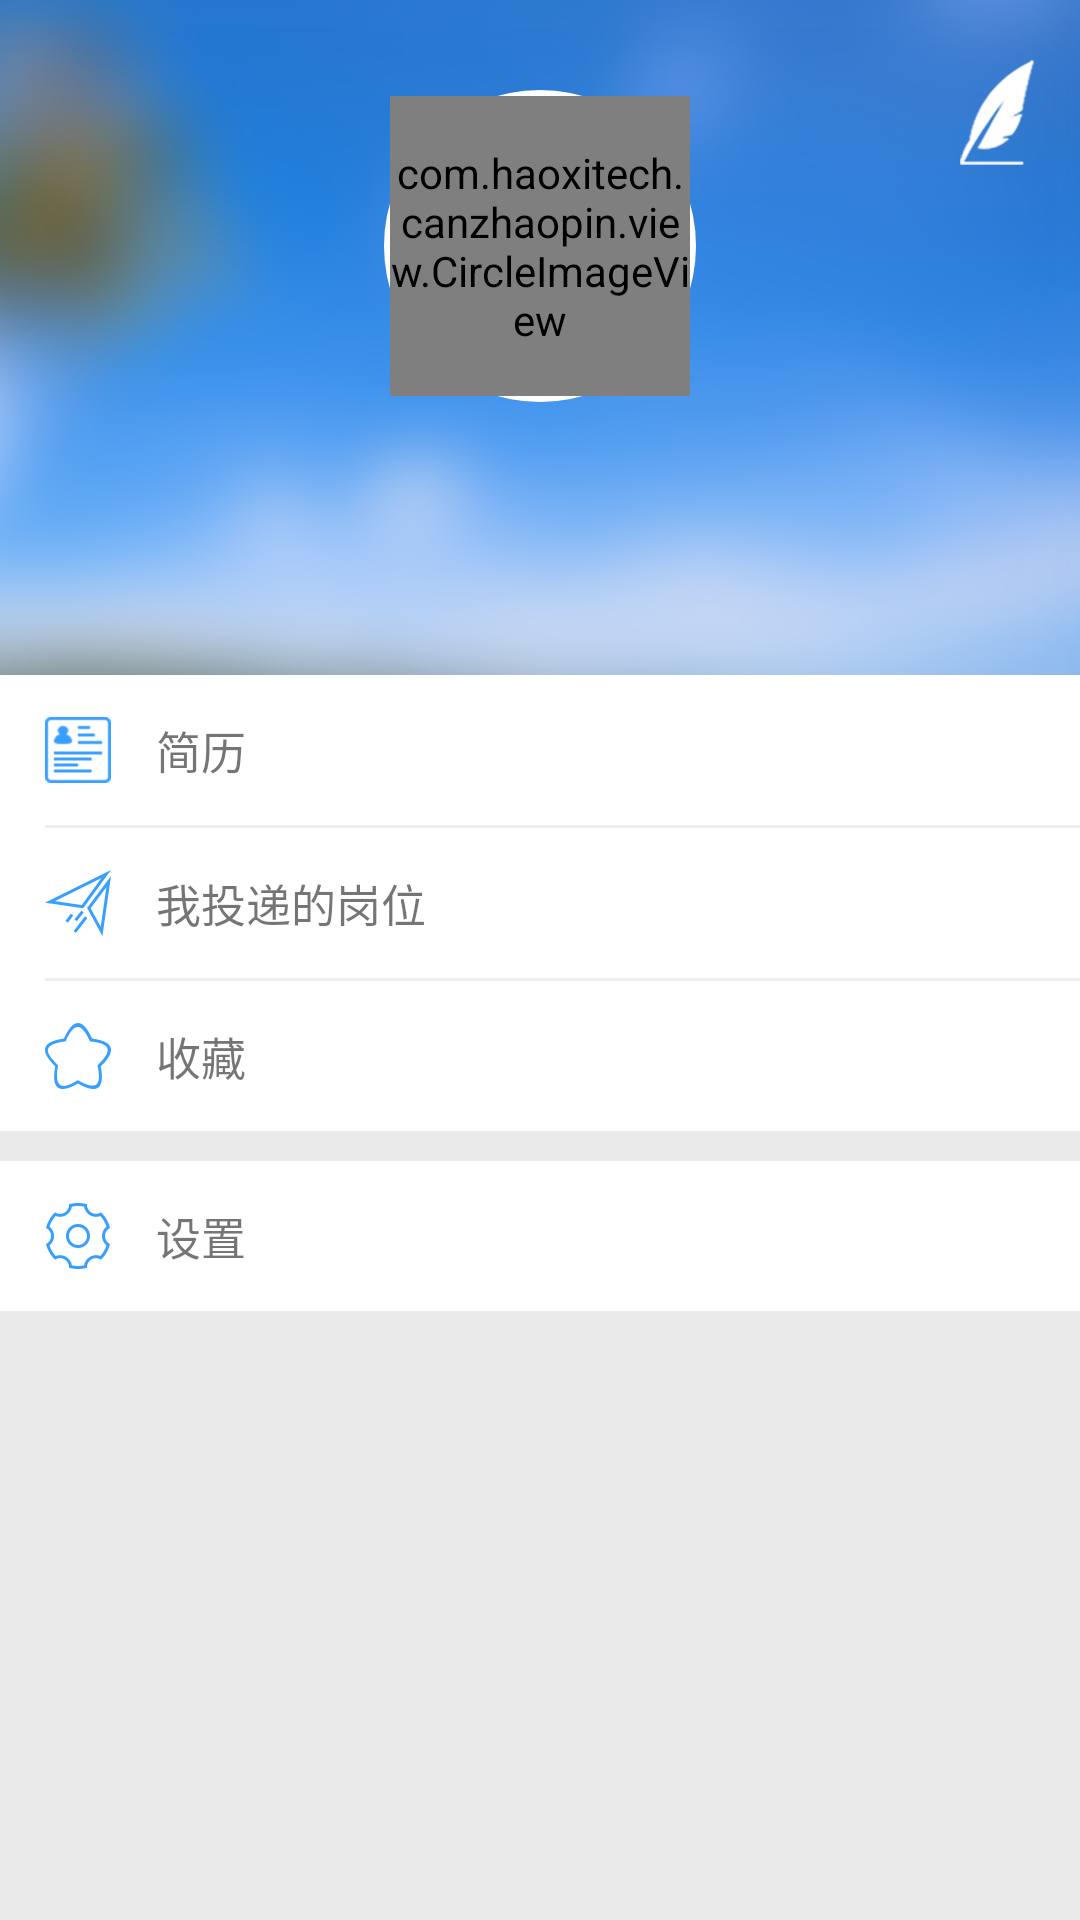

Locate icon controls on the screen. Image size 1080 x 1920, boxes as region(x1, y1, x2, y2).
mine collection: region(45, 1023, 111, 1089)
mine resume: region(45, 717, 111, 783)
mine resume send: region(45, 870, 111, 936)
mine setting: region(46, 1203, 110, 1269)
